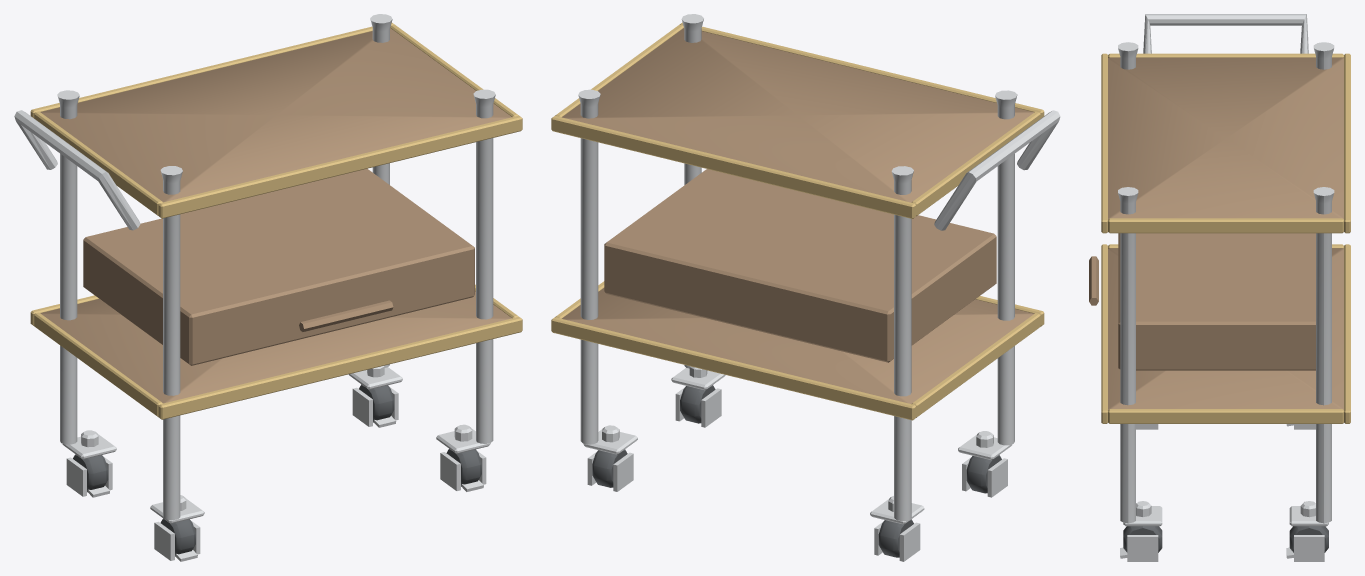
File: restaurant-kitchen-and-dining-waiter-station-trolley-511916ec__16514.glb
3 renders of one model, left to right at view 1: azimuth 30°, elevation 25°; view 2: azimuth 150°, elevation 25°; view 3: azimuth 270°, elevation 25°, orthographic. The views are drawn at different scales.
Parts seen in each view (by area): view 1: waiter-station-trolley, drawer; view 2: waiter-station-trolley, drawer; view 3: waiter-station-trolley, drawer.
Boxes of the visible parts, x1,y1,x2,y2 form: waiter-station-trolley: [14, 14, 522, 561]; drawer: [83, 168, 474, 365]; waiter-station-trolley: [551, 14, 1060, 561]; drawer: [604, 169, 996, 362]; waiter-station-trolley: [1101, 14, 1350, 561]; drawer: [1089, 233, 1315, 370].
Size of the model in its own units: 0.8972 by 0.8519 by 0.535.
